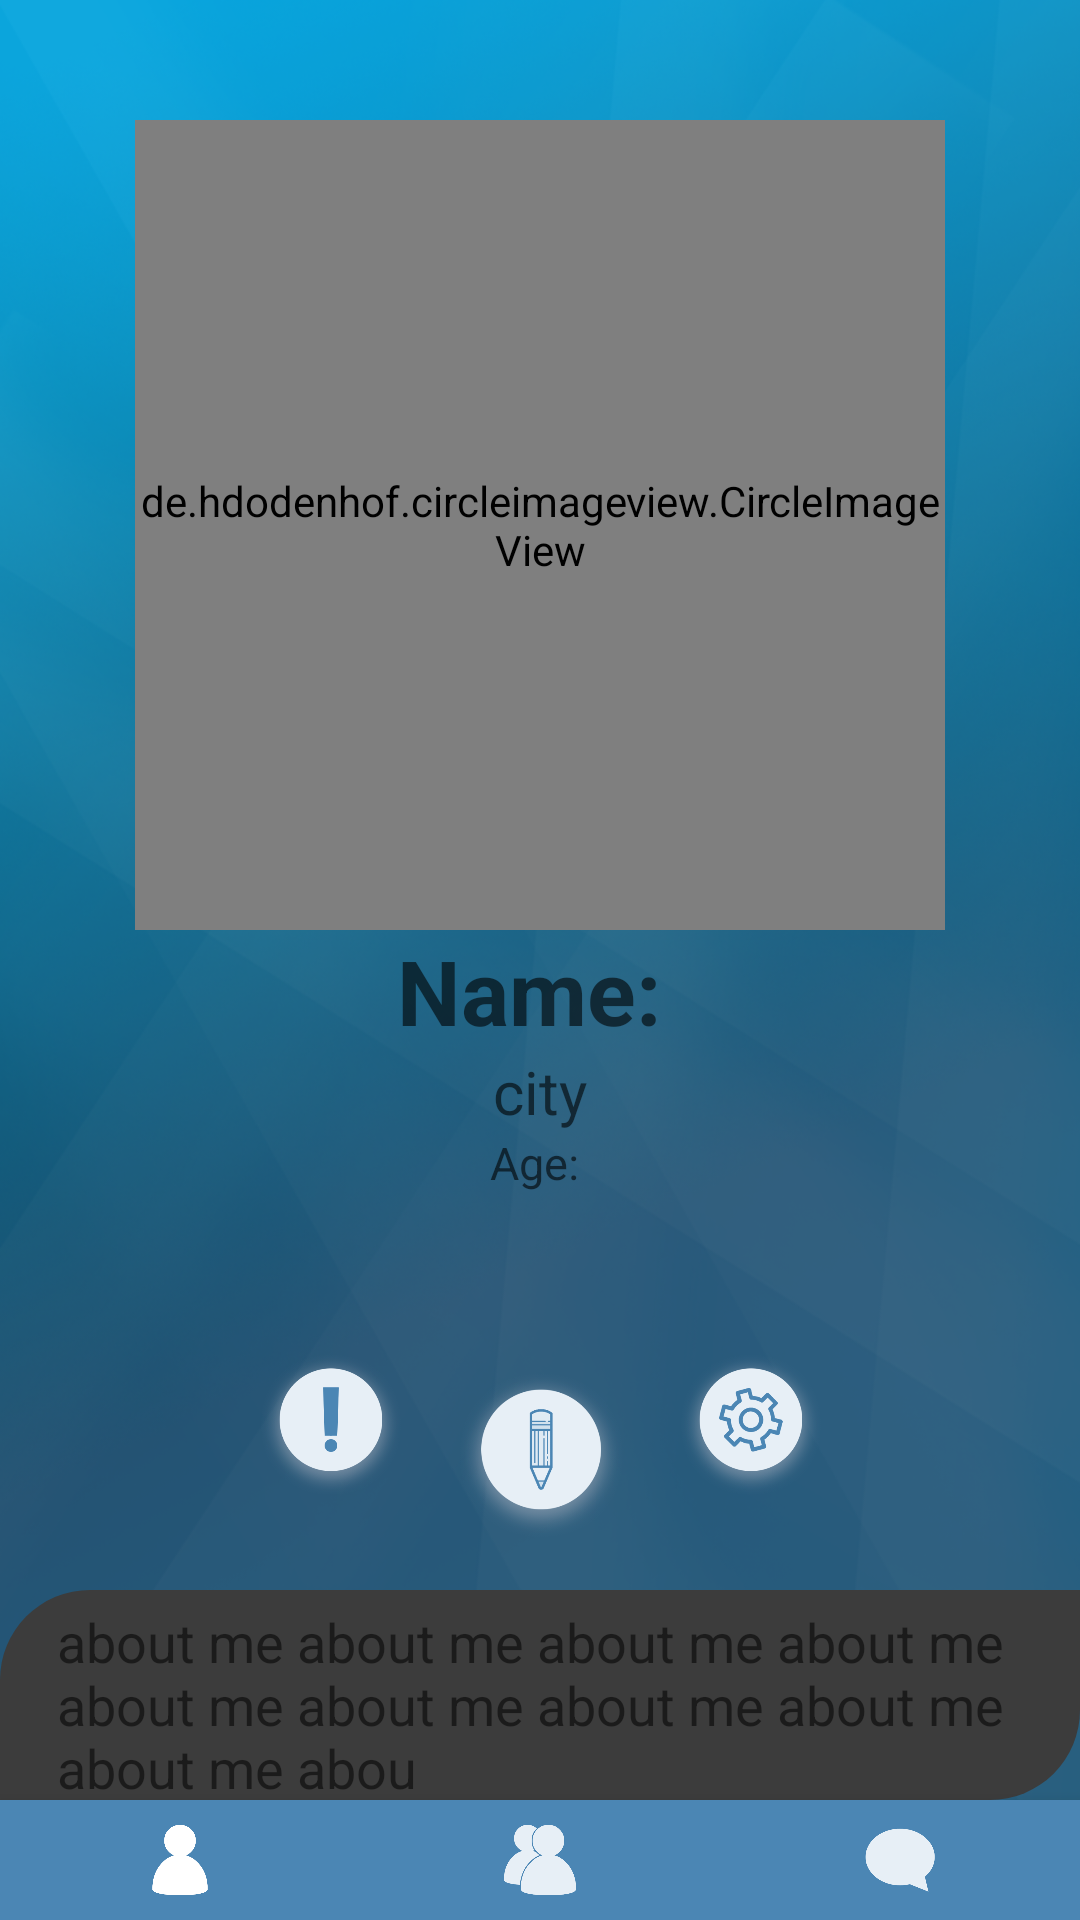

Screen size 1080 × 1920. Icon name, then its center in pixels as [x,y]:
editicon: [542,1455]
exclamation: [331,1425]
settingsicon: [751,1425]
